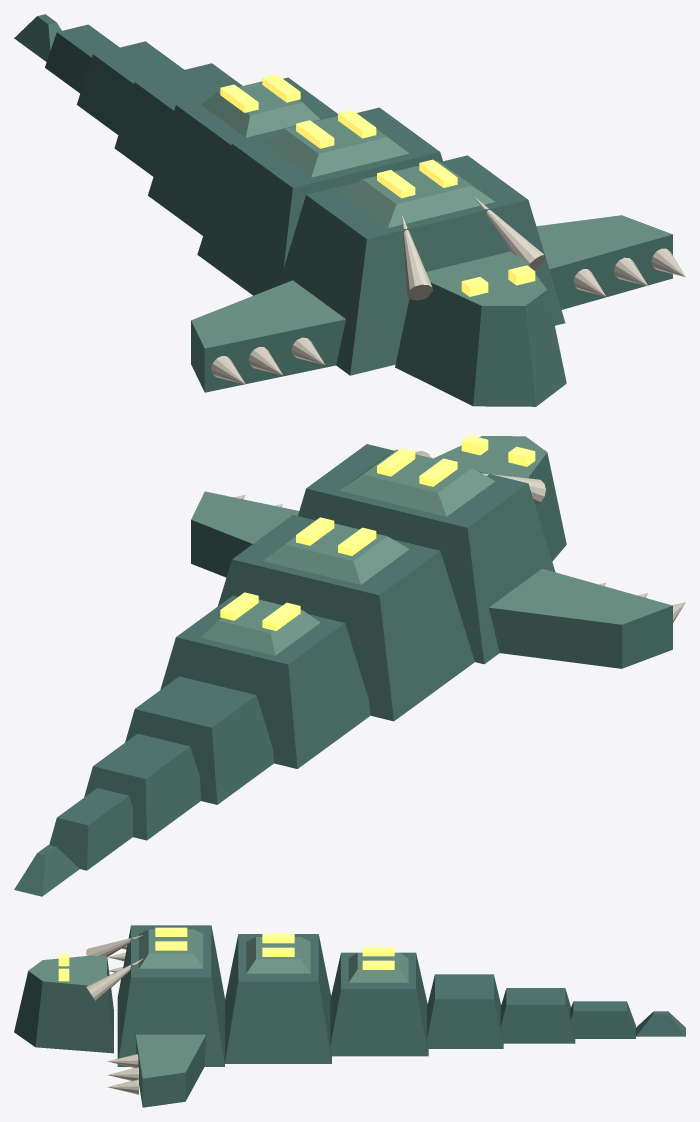
The model's file is kaiju.glb.
3 views of the same model, one above another, from view 1: azimuth 30°, elevation 25°; view 2: azimuth 150°, elevation 25°; view 3: azimuth 270°, elevation 25° (orthographic). The views are drawn at different scales.
Visible parts, largest first — view 1: Kaiju; view 2: Kaiju; view 3: Kaiju.
Boxes of the visible parts, x1,y1,x2,y2 form: Kaiju: (14,14,685,406); Kaiju: (14,435,685,896); Kaiju: (14,925,685,1107).
Bounding box in the file's own units: 10 × 2.95 × 18.8.
